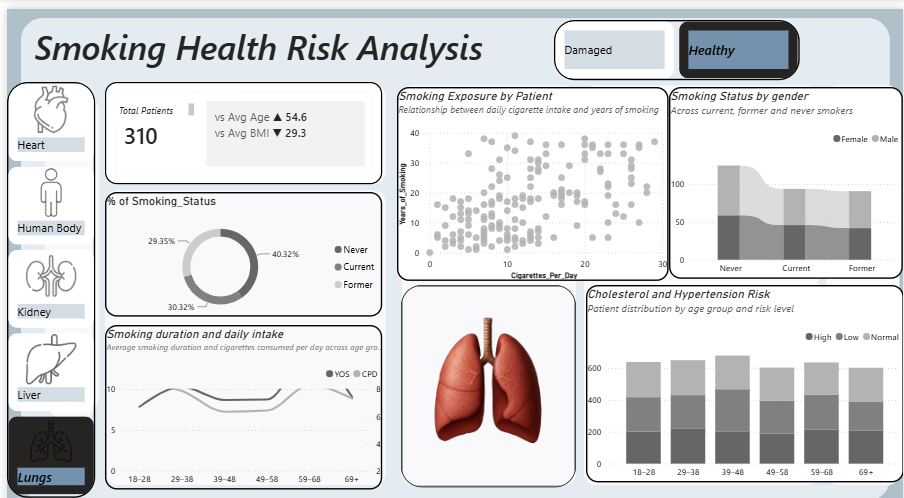

The page's visual inventory and layout, read from the dashboard file:
{"tool":"powerbi","page":{"name":"Page 1","canvas":[1280,720],"ordinal":0},"visuals":[{"type":"cardVisual","fields":{"Data":["CountNonNull(health_dataset.Patient_ID)"]},"box":[139.4,104.1,396.4,146.1],"z":0},{"type":"textbox","box":[154.5,129.3,117.7,33.6],"z":1000},{"type":"advancedSlicerVisual","fields":{"Values":["condition.Organ_Condition"]},"box":[781.1,15.1,351.1,85.7],"z":2000},{"type":"advancedSlicerVisual","fields":{"Values":["Organs.Organ"]},"box":[0,104.3,126.1,593.7],"z":3000},{"type":"image","box":[562.7,394.8,250.3,288.9],"z":4000},{"type":"donutChart","title":"% of Smoking_Status","fields":{"Category":["health_dataset.Smoking_Status"],"Y":["CountNonNull(health_dataset.Smoking_Status)"]},"box":[139.4,262,396.4,178.1],"z":5000},{"type":"lineChart","title":"Smoking duration and daily intake","fields":{"Category":["health_dataset.Age Group"],"Y":["Avg(health_dataset.Years_of_Smoking)"],"Y2":["Avg(health_dataset.Cigarettes_Per_Day)"]},"box":[139.4,451.9,396.4,235.2],"z":6000},{"type":"ribbonChart","title":"Smoking Status by gender","fields":{"Category":["health_dataset.Smoking_Status"],"Series":["health_dataset.Gender"],"Y":["CountNonNull(health_dataset.Patient_ID)"]},"box":[945.7,110.9,334.3,273.8],"z":7000},{"type":"columnChart","title":"Cholesterol and Hypertension Risk","fields":{"Category":["health_dataset.Age Group"],"Y":["Avg(health_dataset.Cholesterol_Level)"],"Series":["health_dataset.BP_Risk"]},"box":[826.5,394.8,453.5,282.2],"z":8000},{"type":"textbox","box":[33.6,15.1,655.1,77.3],"z":9000},{"type":"scatterChart","title":"Smoking Exposure by Patient","fields":{"X":["health_dataset.Cigarettes_Per_Day"],"Y":["health_dataset.Years_of_Smoking"]},"box":[557.7,110.9,388,277.2],"z":10000}]}

Visuals, with their boxes in screenshot pixels (x1, y1, x2, y2), scaled from the page's 1280x720 canvas onto the 904x498 screenshot:
cardVisual - CountNonNull(health_dataset.Patient_ID): [98,72,378,173]
textbox: [109,89,192,113]
advancedSlicerVisual - condition.Organ_Condition: [552,10,800,70]
advancedSlicerVisual - Organs.Organ: [0,72,89,483]
image: [397,273,574,473]
"% of Smoking_Status" donutChart: [98,181,378,304]
"Smoking duration and daily intake" lineChart: [98,313,378,475]
"Smoking Status by gender" ribbonChart: [668,77,903,266]
"Cholesterol and Hypertension Risk" columnChart: [584,273,903,468]
textbox: [24,10,486,64]
"Smoking Exposure by Patient" scatterChart: [394,77,668,268]
